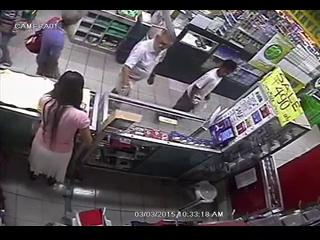Normal: (28, 70, 94, 193), (112, 27, 176, 97), (34, 10, 88, 80), (171, 60, 238, 114)
